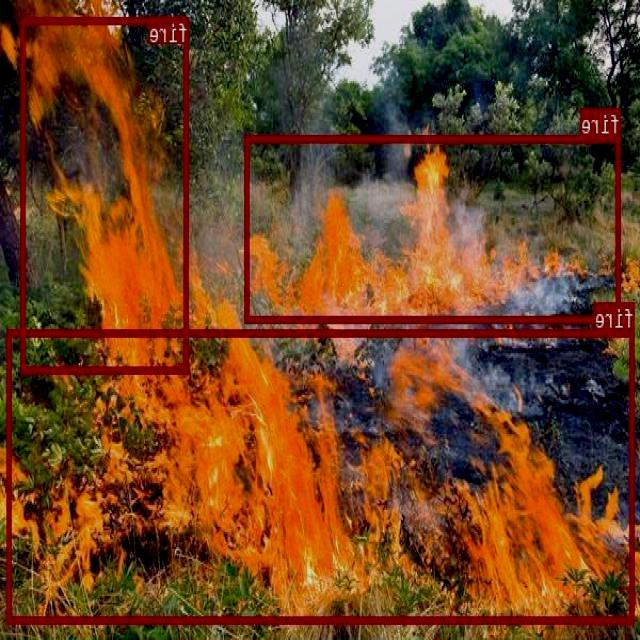fire: (8, 329, 635, 622), (246, 134, 621, 322), (22, 15, 190, 372)
